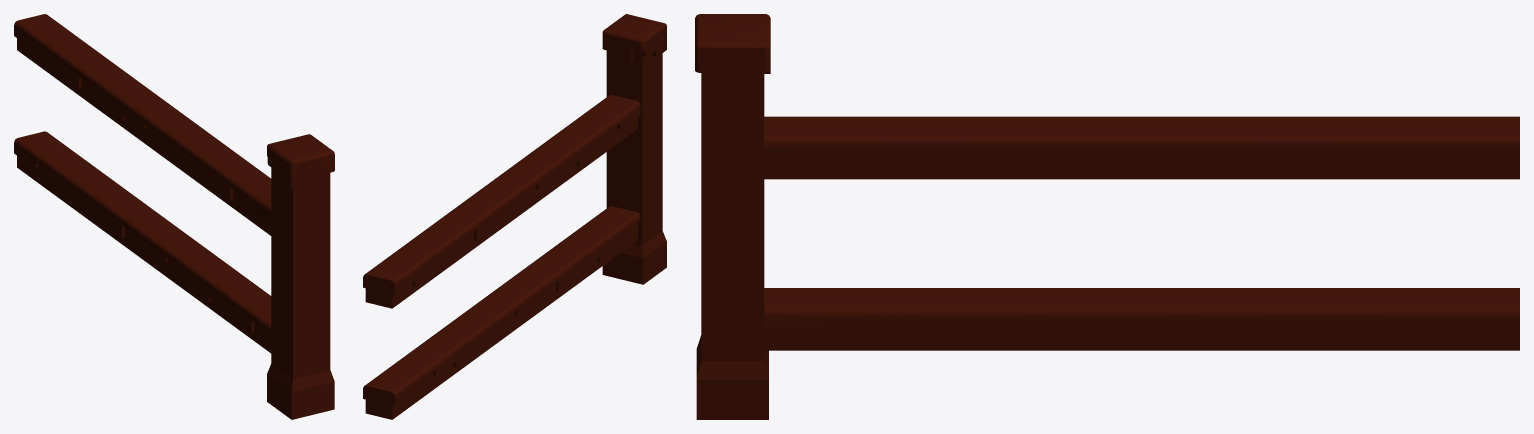
The model's file is Fence.fbx.
3 views of the same model, side by side, from view 1: azimuth 30°, elevation 25°; view 2: azimuth 150°, elevation 25°; view 3: azimuth 270°, elevation 25° (orthographic). The views are drawn at different scales.
Parts seen in each view (by area): view 1: Fence; view 2: Fence; view 3: Fence.
Boxes of the visible parts, box(x1,y1,x2,y2) form: Fence: box(14, 14, 334, 419); Fence: box(363, 14, 666, 419); Fence: box(695, 14, 1519, 419).
Bounding box in the file's own units: 1.2 × 6.6 × 13.1.
